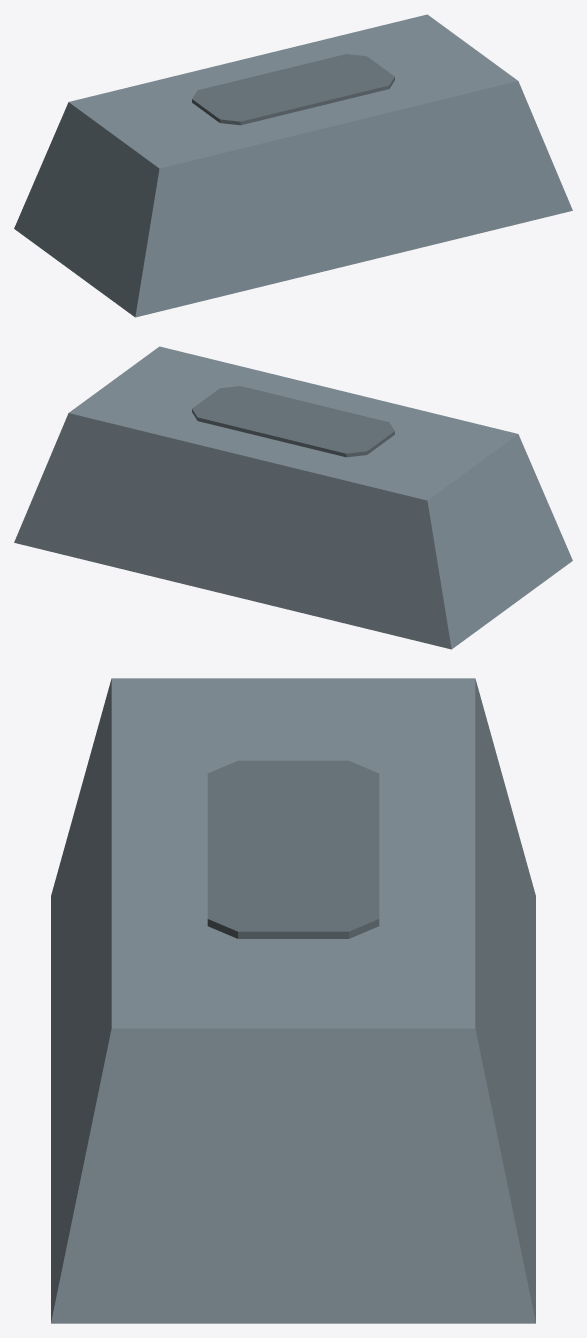
File: iron_bar.glb
3 renders of one model, top to bottom at view 1: azimuth 30°, elevation 25°; view 2: azimuth 150°, elevation 25°; view 3: azimuth 270°, elevation 25°, orthographic. The views are drawn at different scales.
Visible parts, largest first — view 1: geometry; view 2: geometry; view 3: geometry.
Part boxes in pixels (box(x1,y1,x2,y2)): geometry: box(14, 14, 572, 317); geometry: box(14, 346, 572, 649); geometry: box(51, 678, 535, 1323).
Size of the model in its own units: 0.5 by 0.144 by 0.24.
